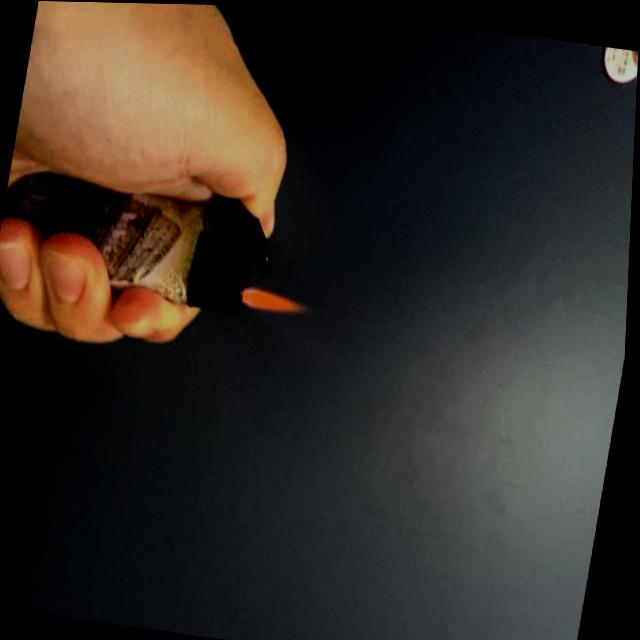helmet: (239, 281, 311, 318)
